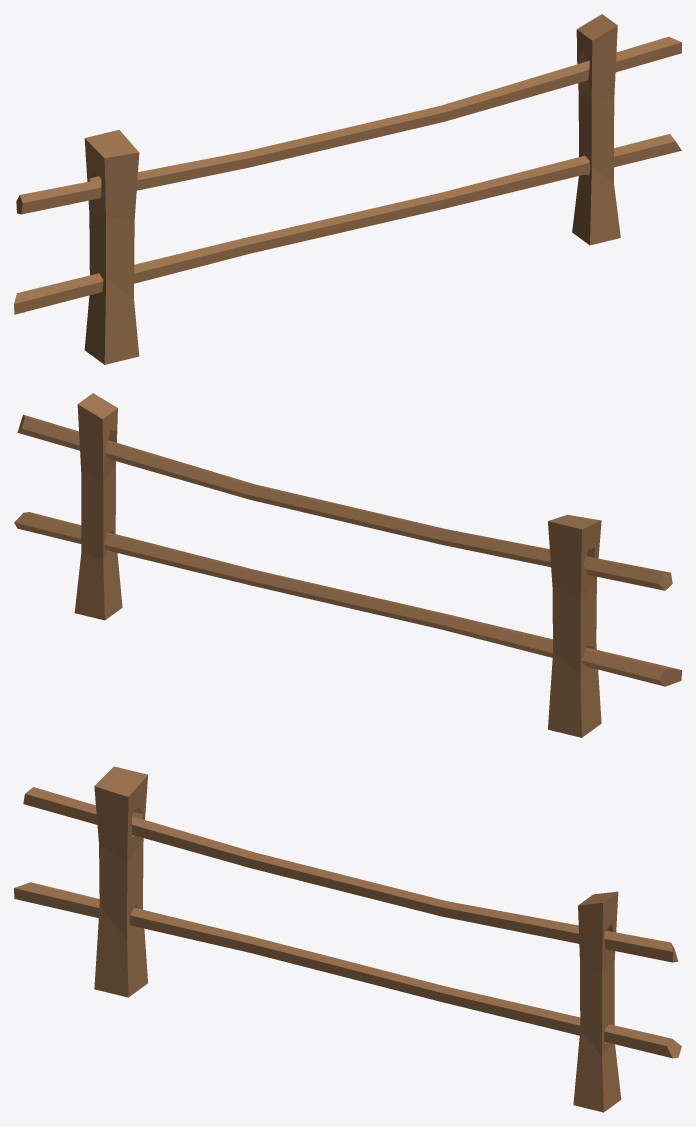
File: Fence_1.fbx
3 views of the same model, one above another, from view 1: azimuth 30°, elevation 25°; view 2: azimuth 150°, elevation 25°; view 3: azimuth 330°, elevation 25° (orthographic).
Visible parts, largest first — view 1: Fence_mesh; view 2: Fence_mesh; view 3: Fence_mesh.
Part boxes in pixels (<box>): Fence_mesh: <box>14,14,681,364</box>; Fence_mesh: <box>14,393,681,737</box>; Fence_mesh: <box>14,766,681,1112</box>.
Bounding box in the file's own units: 367 × 111 × 19.02.
